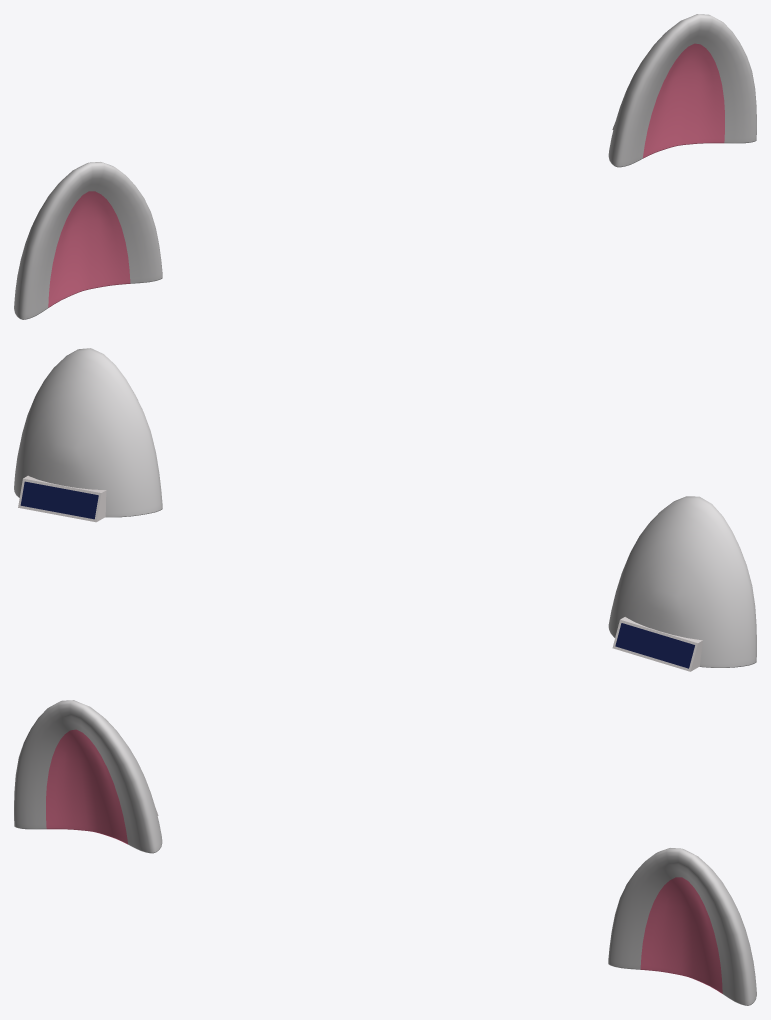
Rendered from Tai1.glb.
3 views of the same model, one above another, from view 1: azimuth 30°, elevation 25°; view 2: azimuth 150°, elevation 25°; view 3: azimuth 330°, elevation 25° (orthographic).
Visible parts, largest first — view 1: Plane.037; view 2: Plane.037, Cube; view 3: Plane.037.
Part boxes in pixels (x1,y1,x2,y2): Plane.037: (14,14,756,319); Plane.037: (14,348,756,667); Cube: (18,475,702,671); Plane.037: (14,700,756,1005).
Size of the model in its own units: 0.5833 by 0.1098 by 0.0583.
